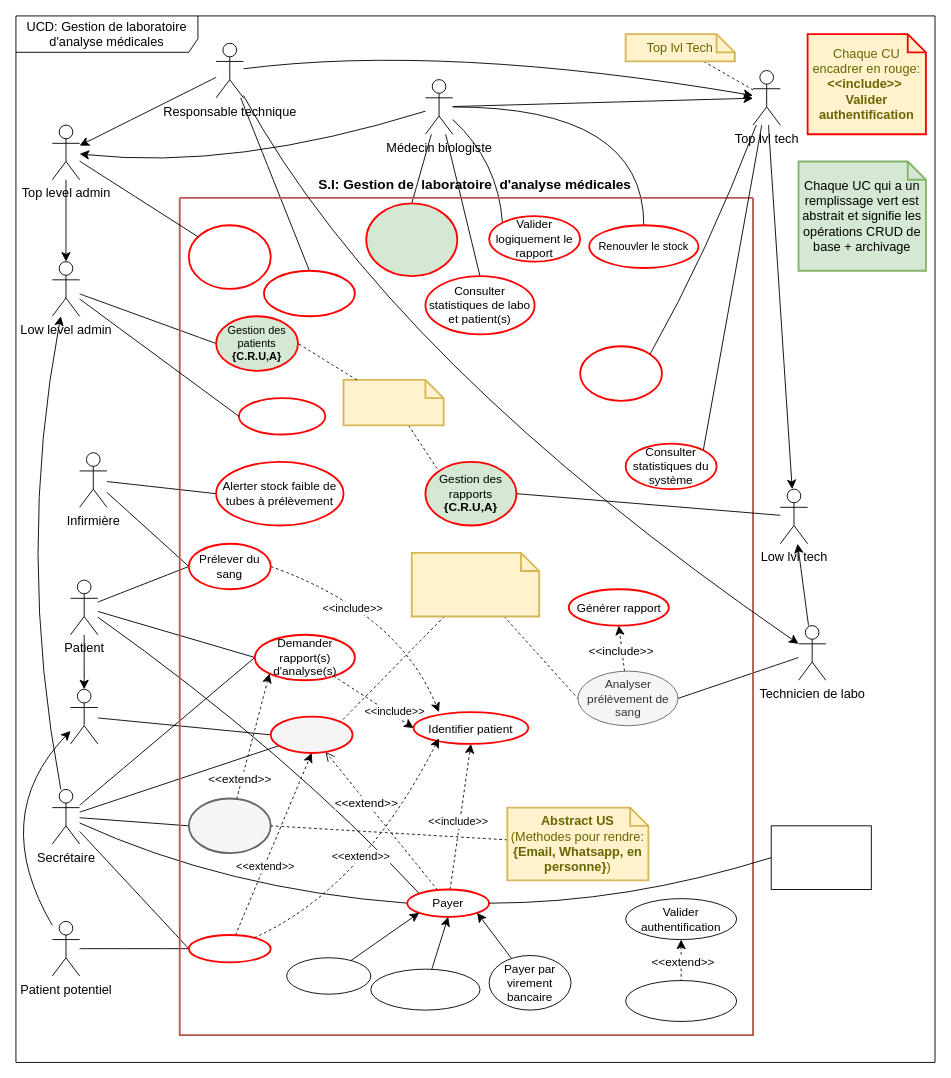
Image size: 951x1078. Some labels were removed from this diagram. Each missing label, with the centre of its shape:
"A pour archiver" belongs at (393,402).
"Abstract US (Types d'analyses restant à identifier)" belongs at (475,584).
"Consulter Rapport(s)" belongs at (282,416).
"Demander analyse(s)" belongs at (311,734).
"Gestion des patients {Delete}" belongs at (229,256).
"Gestion des rapports {Delete}" belongs at (620,373).
"Gestion du personnel de labo {C.R.U,A,D}" belongs at (411,239).
"Inscription" belongs at (229,948).
"Payer avec carte bancaire" belongs at (425,989).
"Payer en espèces" belongs at (328,975).
"Personne" belongs at (84,716).
"Rendre rapport au patient" belongs at (229,825).
"S'authentifier" belongs at (681,1000).
"Valider techniquement le rapport" belongs at (309,293).
"«actor» Système de payement" belongs at (820,857).
